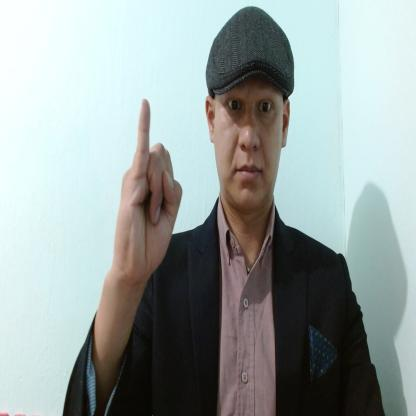I: (112, 96, 184, 282)
